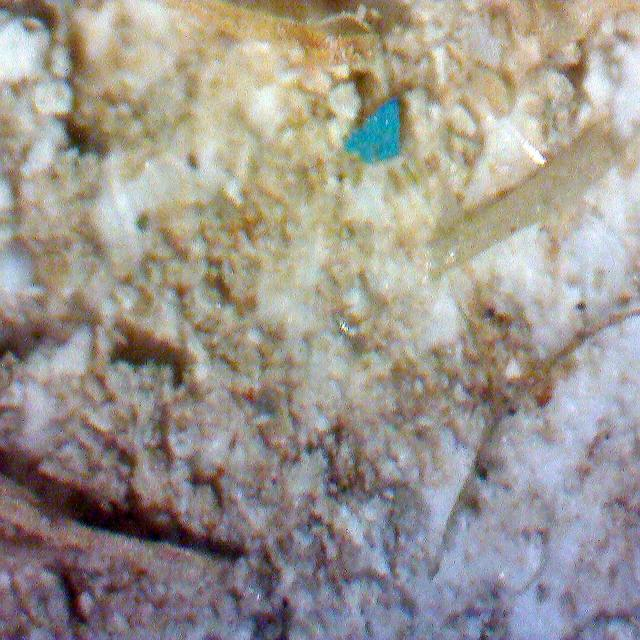microplastic: (344, 98, 400, 158)
